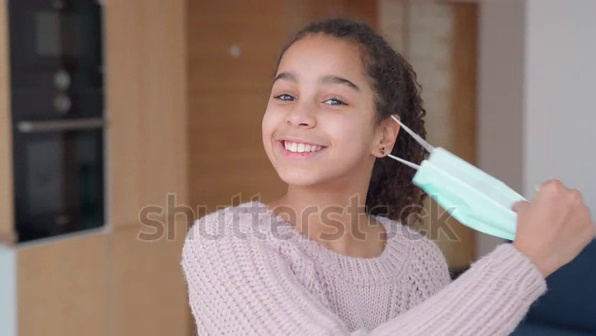No Mask: (256, 111, 373, 191)
